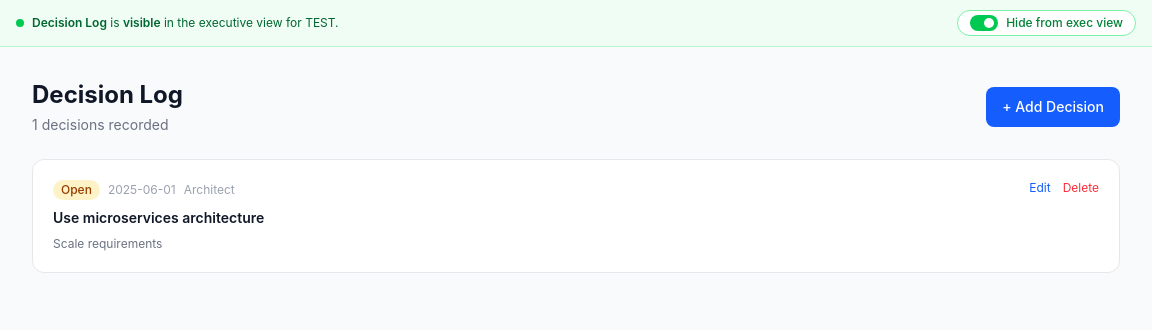
Test: DecisionEditor › T-37.05: Delete button removes the decision
The image size is (1152, 330).
Check: the text "Use microservices architecture" is shown, box [53,209,264,226]
Step 1. Click the button "Delete" → (1081, 188), box [1063,180,1099,196]
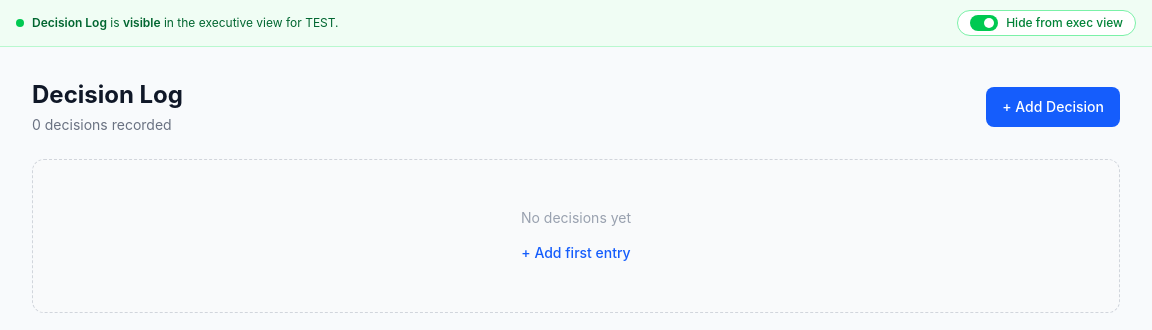
Check: the text "Use microservices architecture" is gone
